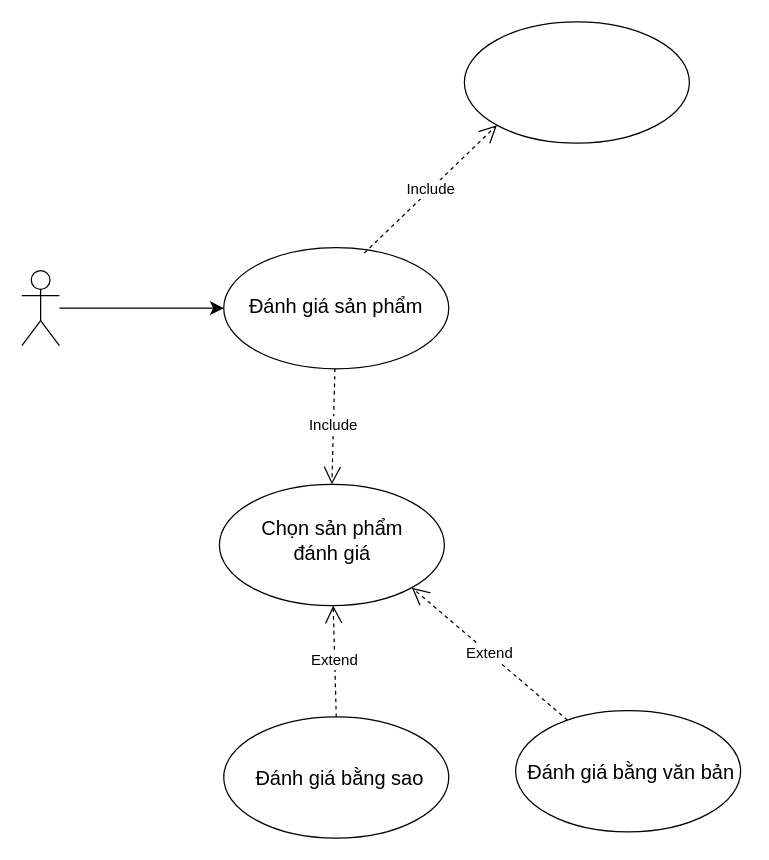
The diagram is 769 pixels wide and 860 high, and some of its shapes have lost their labels. The centre of each missing label's shape, as x and y in pixels:
User: point (40, 307)
Đăng nhập: point (576, 82)
